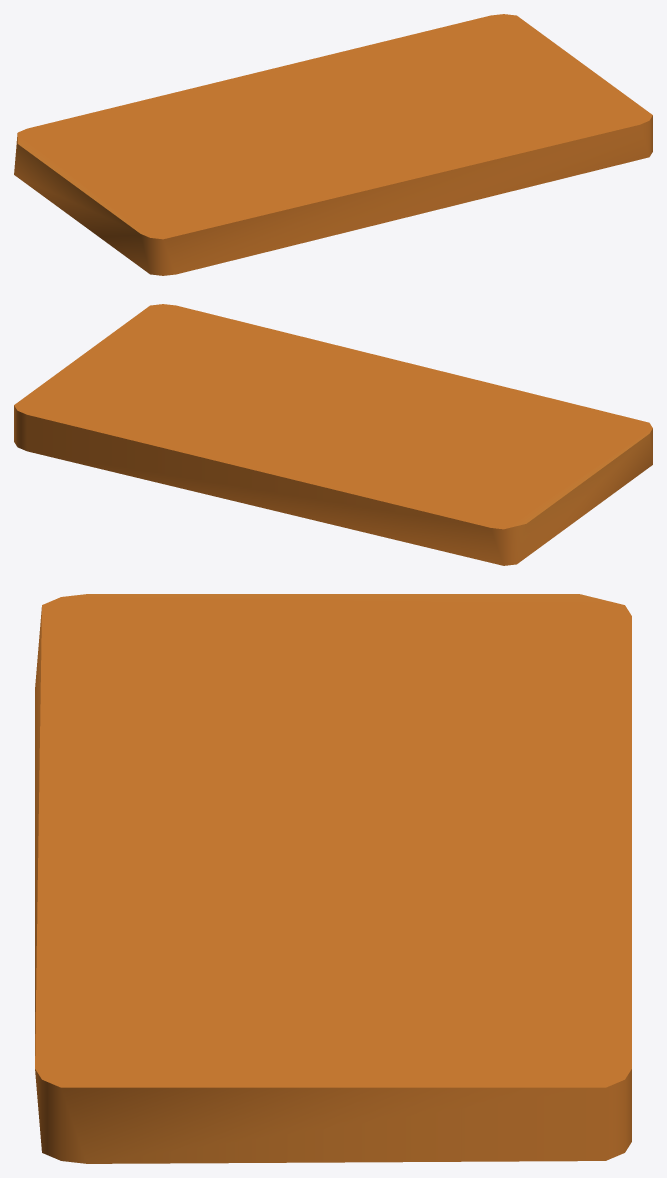
3 renders of one model, top to bottom at view 1: azimuth 30°, elevation 25°; view 2: azimuth 150°, elevation 25°; view 3: azimuth 270°, elevation 25°, orthographic. The views are drawn at different scales.
Parts seen in each view (by area): view 1: LOD 2_7040328769381660891_78e382a95436ca24cb13f2e28dcea642; view 2: LOD 2_7040328769381660891_78e382a95436ca24cb13f2e28dcea642; view 3: LOD 2_7040328769381660891_78e382a95436ca24cb13f2e28dcea642.
Part boxes in pixels (bbox=[...]): LOD 2_7040328769381660891_78e382a95436ca24cb13f2e28dcea642: bbox=[14, 14, 652, 275]; LOD 2_7040328769381660891_78e382a95436ca24cb13f2e28dcea642: bbox=[14, 304, 652, 565]; LOD 2_7040328769381660891_78e382a95436ca24cb13f2e28dcea642: bbox=[35, 594, 631, 1163].
Bounding box in the file's own units: 2.24 × 0.154 × 1.14.
